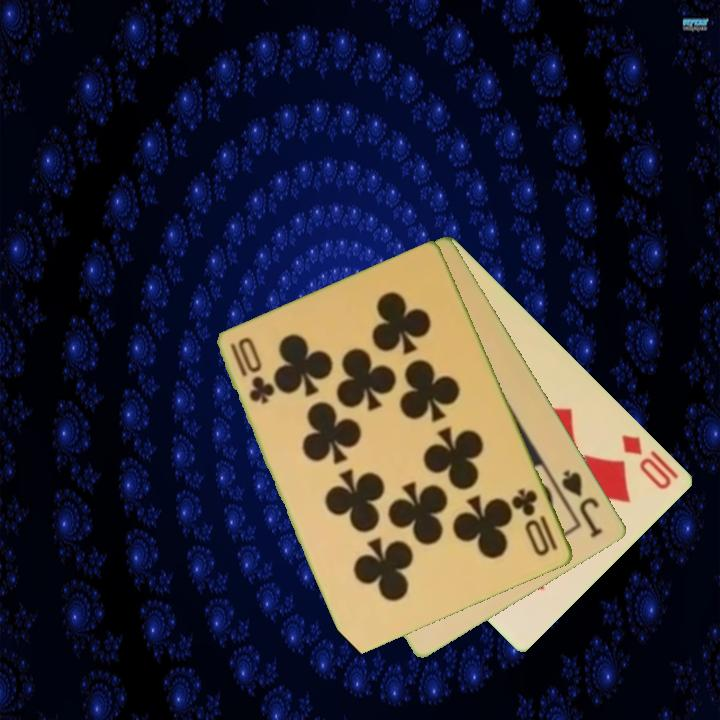10c: (509, 485, 562, 560), (227, 339, 276, 408)
10d: (618, 431, 682, 493)
Js: (558, 466, 606, 541)
